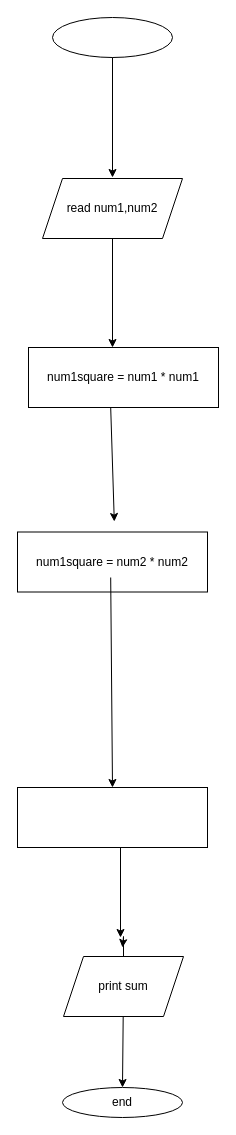
This 236x1135 diagram has some shape labels left out. Each missing label, with the box of its shape:
start: (52, 16, 172, 58)
sum= num1square + num1square: (16, 786, 208, 848)
